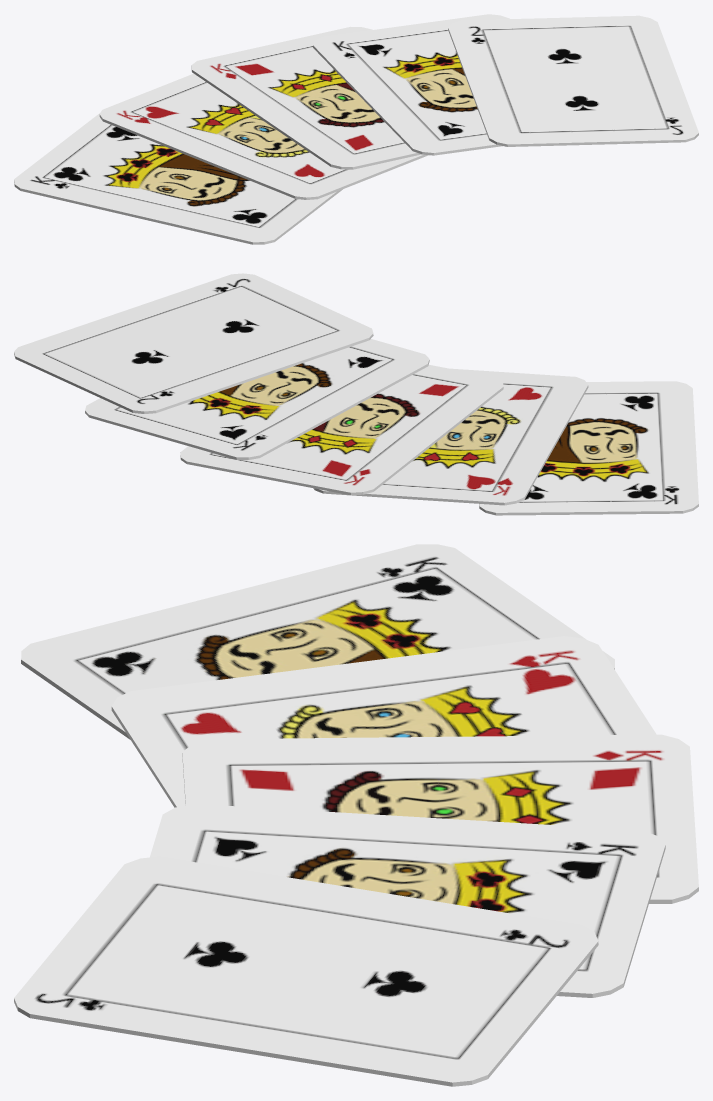
The model's file is cardGame.obj.
The picture shows the model from 3 angles, top to bottom: view 1: azimuth 30°, elevation 25°; view 2: azimuth 150°, elevation 25°; view 3: azimuth 270°, elevation 25°; orthographic projection. The views are drawn at different scales.
Visible parts, largest first — view 1: Cube.003_Cube.001, Cube.004, Cube.005, Cube.002_Cube.000, Cube_Cube.002; view 2: Cube.003_Cube.001, Cube.004, Cube.002_Cube.000, Cube.005, Cube_Cube.002; view 3: Cube.003_Cube.001, Cube.004, Cube.005, Cube.002_Cube.000, Cube_Cube.002.
Part boxes in pixels (x1=…): Cube.003_Cube.001: x1=448, y1=15, x2=698, y2=146; Cube.004: x1=14, y1=112, x2=342, y2=244; Cube.005: x1=191, y1=26, x2=421, y2=169; Cube.002_Cube.000: x1=313, y1=14, x2=509, y2=155; Cube_Cube.002: x1=99, y1=73, x2=428, y2=199; Cube.003_Cube.001: x1=14, y1=273, x2=373, y2=413; Cube.004: x1=479, y1=381, x2=698, y2=515; Cube.002_Cube.000: x1=85, y1=339, x2=429, y2=459; Cube.005: x1=180, y1=365, x2=503, y2=495; Cube_Cube.002: x1=313, y1=368, x2=588, y2=505; Cube.003_Cube.001: x1=14, y1=856, x2=598, y2=1086; Cube.004: x1=21, y1=544, x2=614, y2=739; Cube.005: x1=182, y1=734, x2=698, y2=903; Cube.002_Cube.000: x1=149, y1=804, x2=665, y2=997; Cube_Cube.002: x1=111, y1=636, x2=656, y2=807.
Size of the model in its own units: 21.13 by 0.3795 by 11.33.
Materials: 5 (5 with a texture image).
